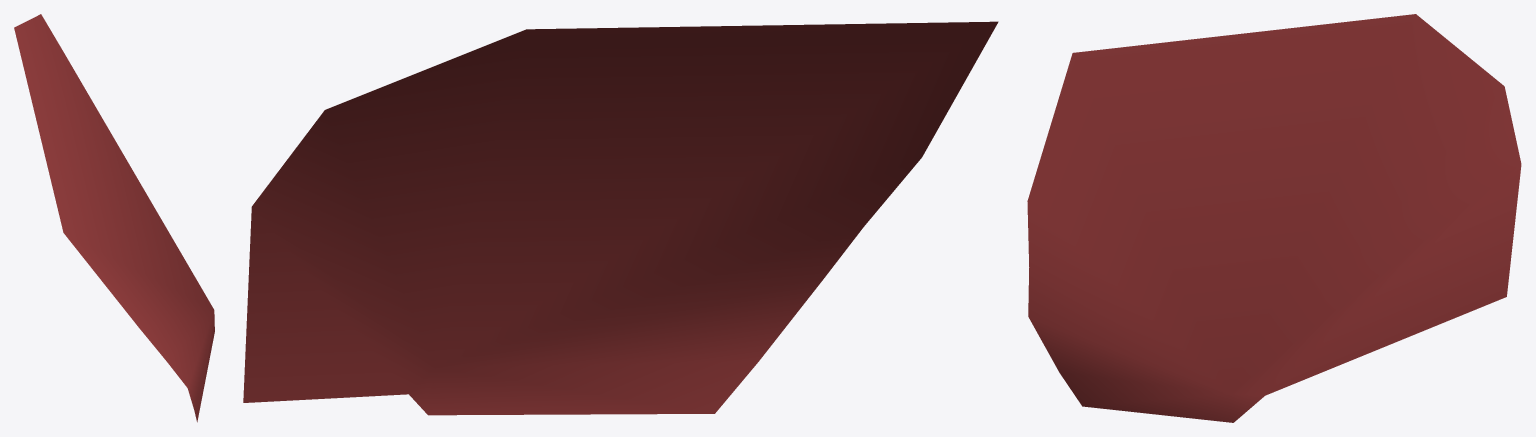
File: transverse-head-of-adductor-hallucis-e1r.glb
3 views of the same model, side by side, from view 1: azimuth 30°, elevation 25°; view 2: azimuth 150°, elevation 25°; view 3: azimuth 270°, elevation 25° (orthographic). The views are drawn at different scales.
Visible parts, largest first — view 1: Transverse head of adductor hallucis.e1r; view 2: Transverse head of adductor hallucis.e1r; view 3: Transverse head of adductor hallucis.e1r.
Part boxes in pixels (<box>): Transverse head of adductor hallucis.e1r: <box>14,14,214,422</box>; Transverse head of adductor hallucis.e1r: <box>243,21,998,415</box>; Transverse head of adductor hallucis.e1r: <box>1027,14,1521,422</box>.
Size of the model in its own units: 0.00299 by 0.00399 by 0.00487.
